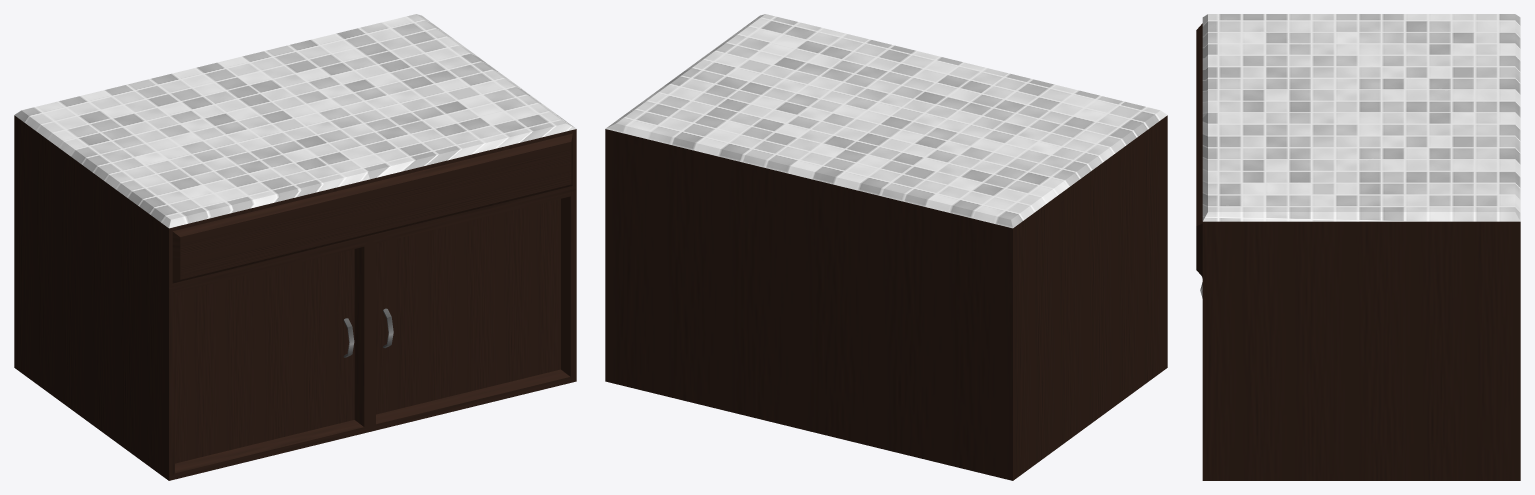
File: Kitchen_Counter_A_3_2.FBX
The picture shows the model from 3 angles, left to right: view 1: azimuth 30°, elevation 25°; view 2: azimuth 150°, elevation 25°; view 3: azimuth 270°, elevation 25°; orthographic projection. The views are drawn at different scales.
Parts seen in each view (by area): view 1: Counter_A_3; view 2: Counter_A_3; view 3: Counter_A_3.
Part boxes in pixels (x1,y1,x2,y2): Counter_A_3: (14, 14, 576, 480); Counter_A_3: (605, 14, 1167, 480); Counter_A_3: (1196, 14, 1520, 480).
Bounding box in the file's own units: 228 × 138 × 153.
